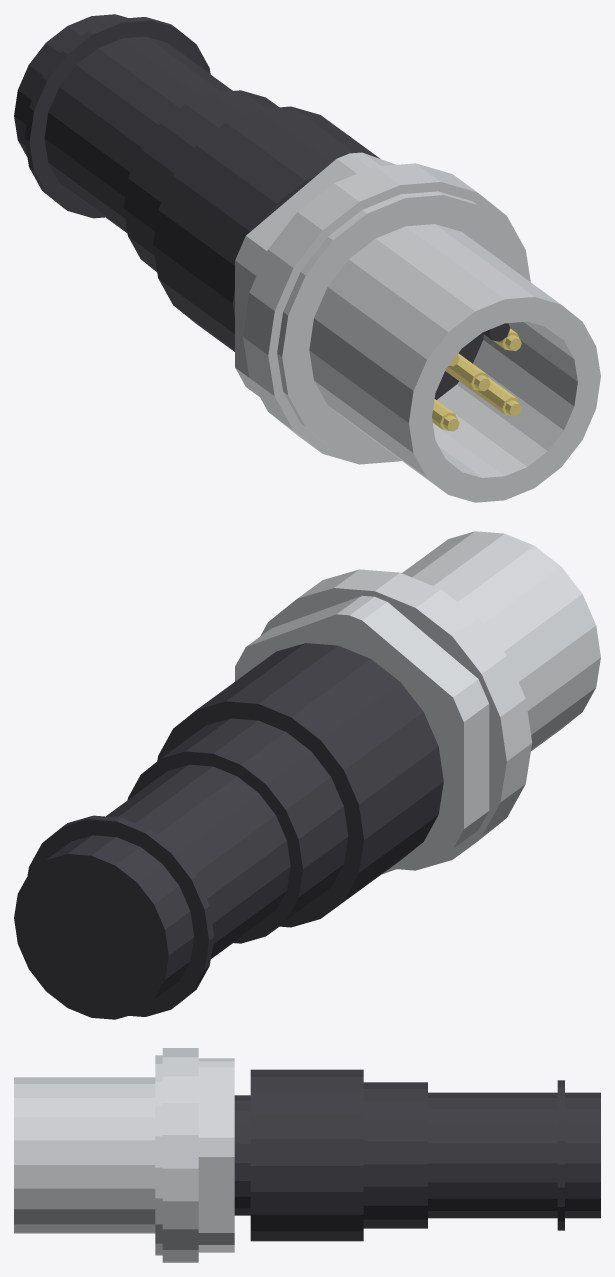
Rendered from plug-m12.glb.
3 renders of one model, top to bottom at view 1: azimuth 30°, elevation 25°; view 2: azimuth 150°, elevation 25°; view 3: azimuth 270°, elevation 25°, orthographic. The views are drawn at different scales.
Visible parts, largest first — view 1: nut, body, insert.c4, insert.c5; view 2: body, nut; view 3: body, nut, self.
Boxes of the visible parts, x1,y1,x2,y2 form: nut: (235, 152, 600, 502); body: (14, 14, 510, 399); insert.c4: (445, 369, 521, 416); insert.c5: (446, 353, 490, 391); body: (14, 643, 443, 1019); nut: (235, 531, 600, 874); body: (250, 1069, 600, 1241); nut: (14, 1048, 234, 1262); self: (234, 1095, 250, 1215).
Size of what is drawn, in the model's own units: 0.015 by 0.015 by 0.0407.
